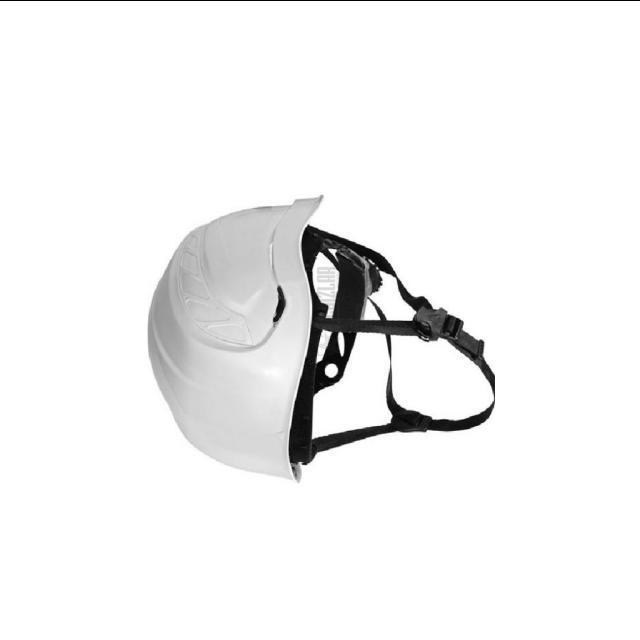safety_helmet: (149, 192, 496, 480)
